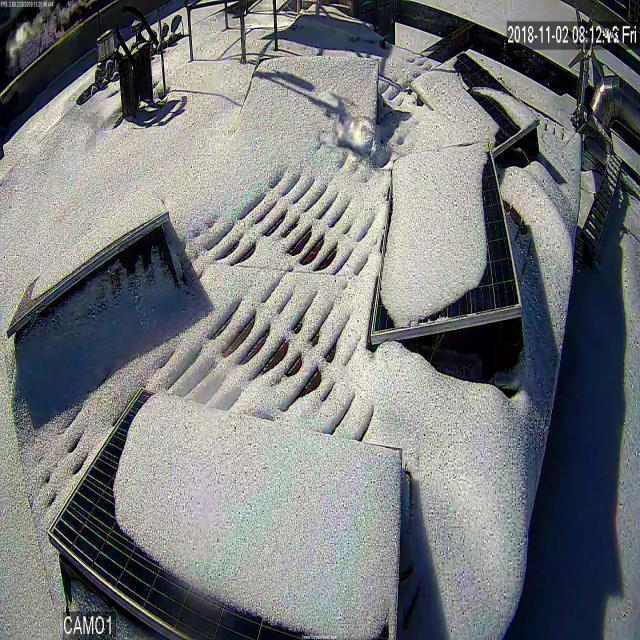Anomaly Solar Panel: (49, 388, 400, 639), (373, 139, 520, 331), (8, 191, 170, 329), (411, 53, 538, 152), (236, 58, 377, 134)
Snow: (108, 394, 398, 639), (372, 139, 518, 331), (27, 189, 164, 300), (411, 52, 538, 151), (235, 60, 377, 137)
